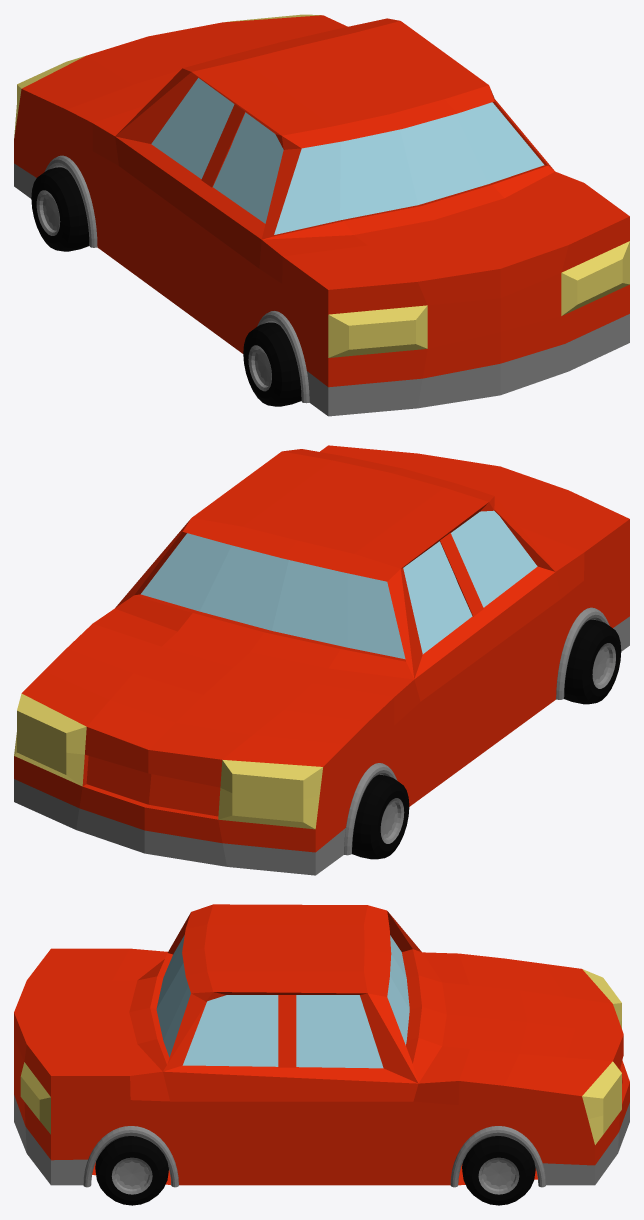
File: coche.fbx
3 views of the same model, one above another, from view 1: azimuth 30°, elevation 25°; view 2: azimuth 150°, elevation 25°; view 3: azimuth 270°, elevation 25° (orthographic). The views are drawn at different scales.
Parts seen in each view (by area): view 1: Cube.007, Cylinder.003, Cylinder.002, Cube.009, Torus.002, Torus.005; view 2: Cube.007, Cylinder.002, Cylinder.003, Cube.009, Torus.005, Torus.002; view 3: Cube.007, Cylinder, Cylinder.001, Torus, Torus.004, Cube.008.
Part boxes in pixels (box(x1,y1,x2,y2)): Cube.007: box(14, 14, 629, 416); Cylinder.003: box(243, 322, 301, 406); Cylinder.002: box(31, 167, 89, 251); Cube.009: box(201, 104, 245, 187); Torus.002: box(44, 155, 97, 247); Torus.005: box(257, 311, 309, 403); Cube.007: box(14, 445, 629, 875); Cylinder.002: box(352, 774, 409, 859); Cylinder.003: box(564, 619, 621, 704); Cube.009: box(440, 533, 483, 616); Torus.005: box(556, 607, 609, 699); Torus.002: box(344, 763, 397, 855); Cube.007: box(14, 904, 629, 1185); Cylinder: box(462, 1136, 535, 1205); Cylinder.001: box(95, 1136, 168, 1205); Torus: box(450, 1126, 545, 1187); Torus.004: box(83, 1126, 178, 1187); Cube.008: box(278, 995, 296, 1067).
Bounding box in the file's own units: 132 × 81.77 × 239.
